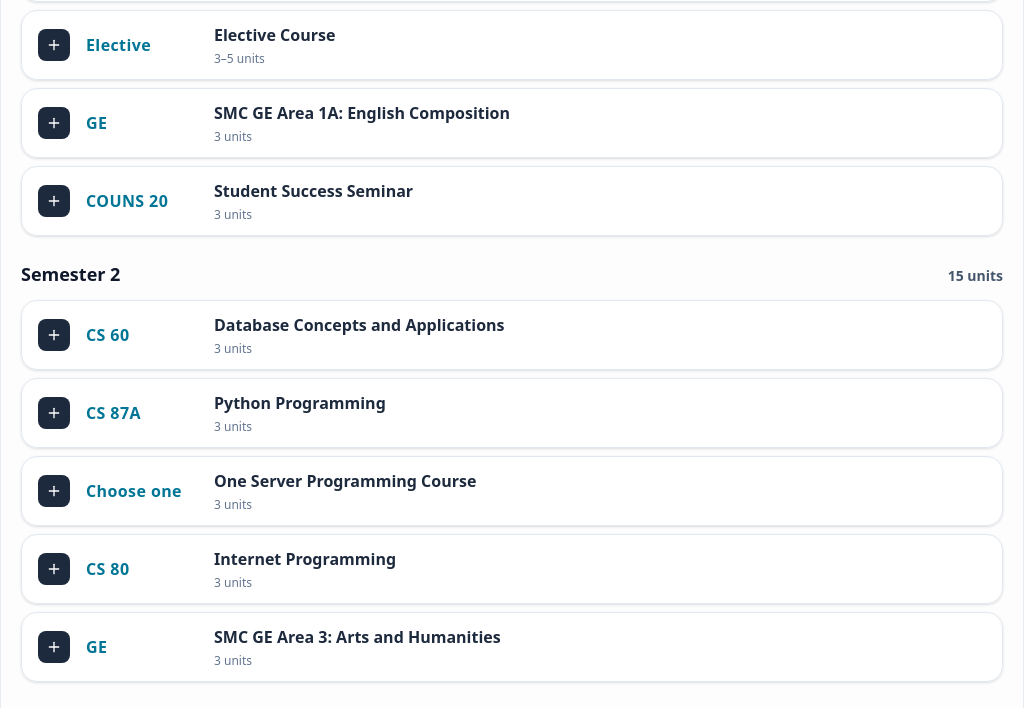
WebDevMajorRequirements › expands and collapses a base course row
(page scrolled)
Click the button "CS 60 Database Concepts and Applications 3 units" at (54, 335), box [22,301,1002,369]
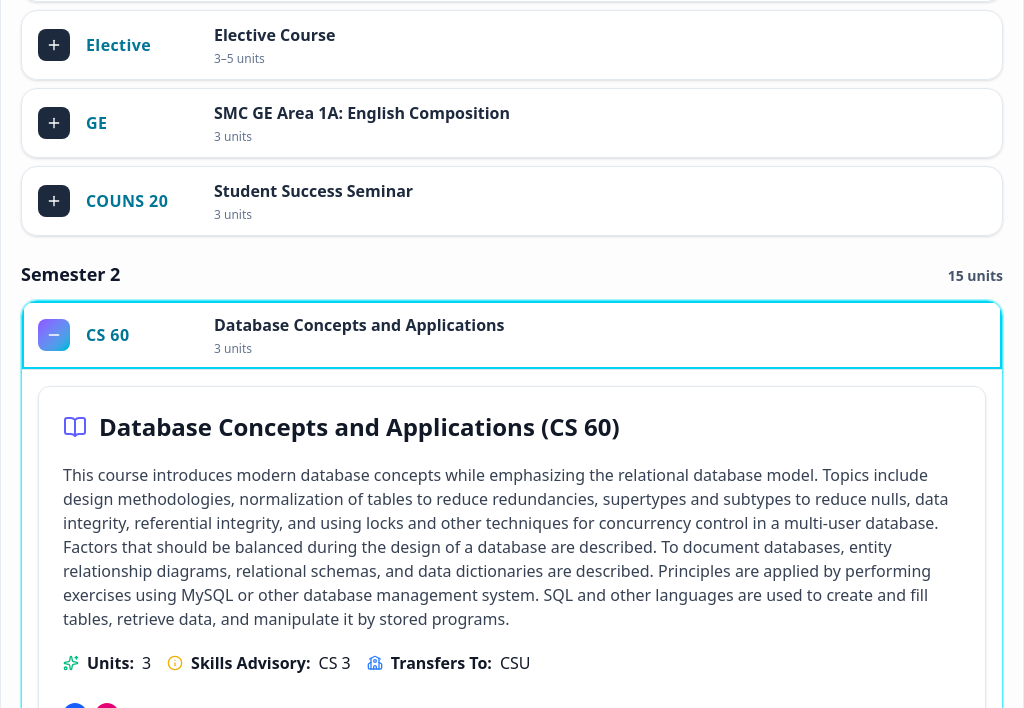
Expected: the text "Skills Advisory:" is shown, [191,651,310,675]
Click the button "CS 60 Database Concepts and Applications 3 units" at (54, 335), box [22,301,1002,369]
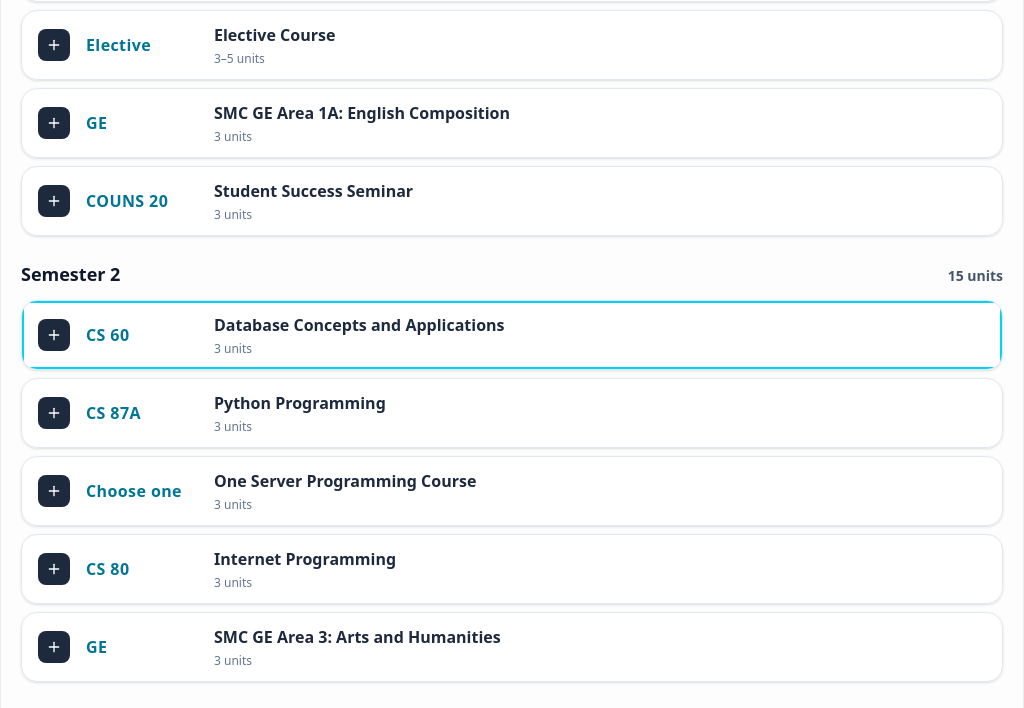
Expected: the text "Skills Advisory:" is gone
